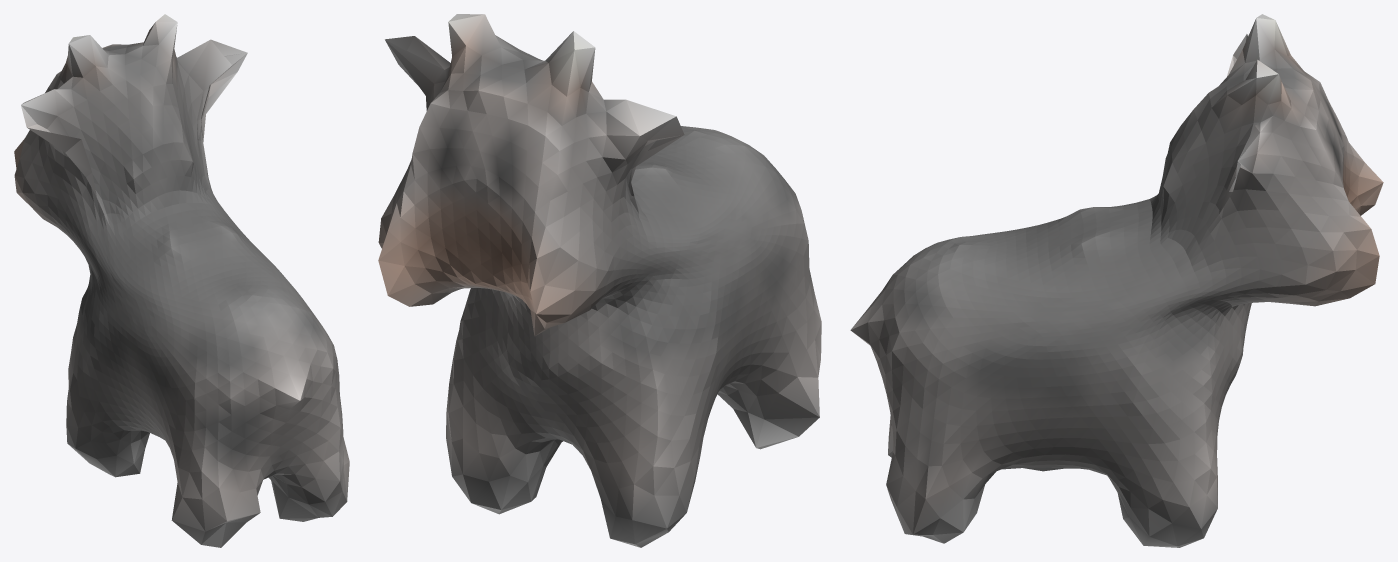
The model's file is colored_mesh_iter_0900.obj.
3 renders of one model, left to right at view 1: azimuth 30°, elevation 25°; view 2: azimuth 150°, elevation 25°; view 3: azimuth 270°, elevation 25°, orthographic. The views are drawn at different scales.
Size of the model in its own units: 1.13 by 2 by 1.99.
